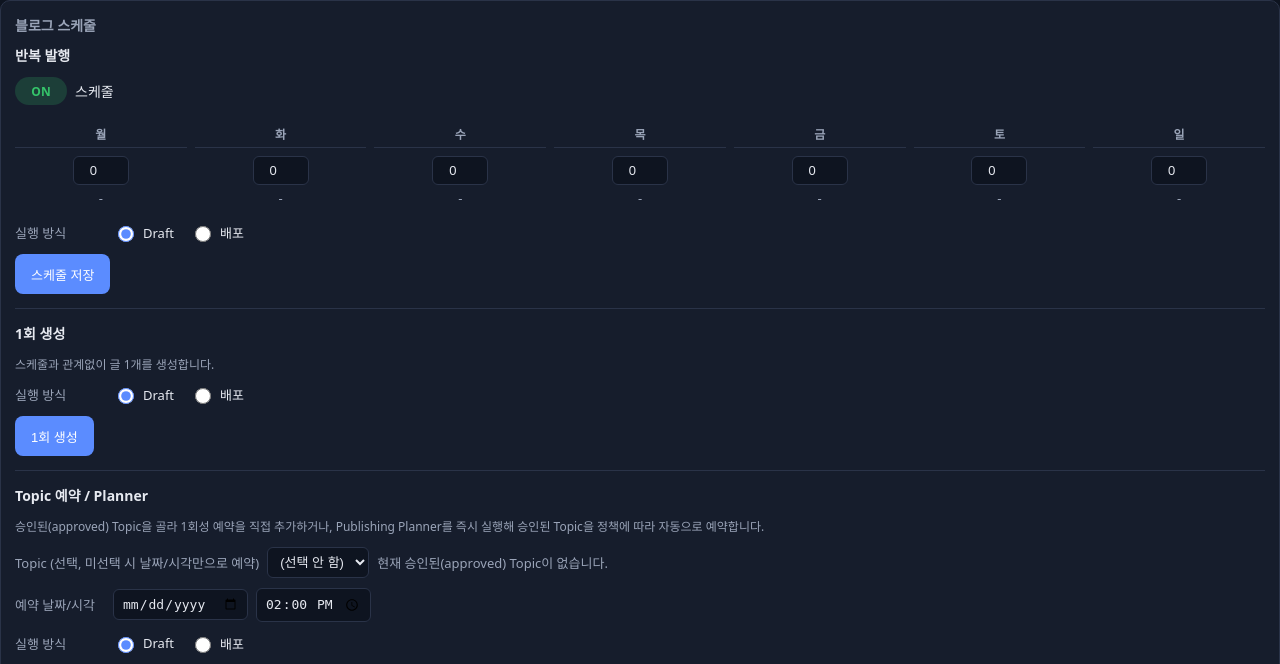
Test: BlogSchedulerPanel — save error reporting (L1) › shows 422 detail-array messages with the failing side label
Step 1. Click the button "스케줄 저장" → [63, 274], box [15,254,110,294]
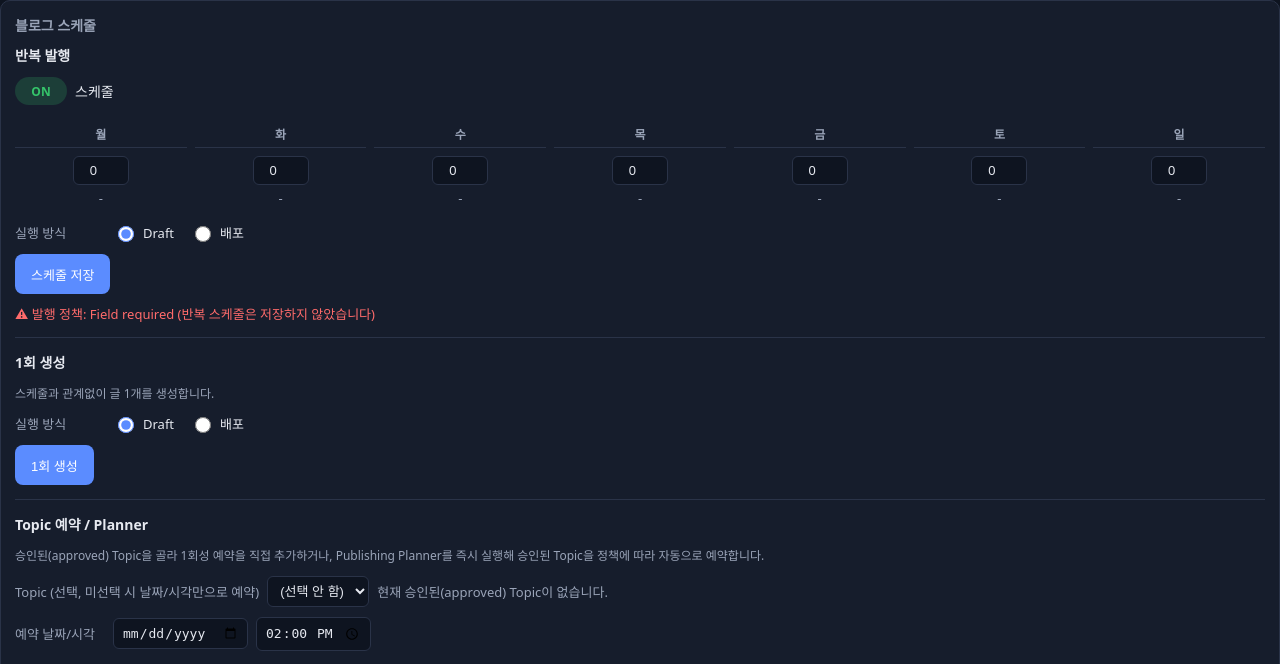
Result: the text "⚠ 발행 정책: Field required (반복 스케줄은 저장하지 않았습니다)" is shown at [15,305,375,323]
